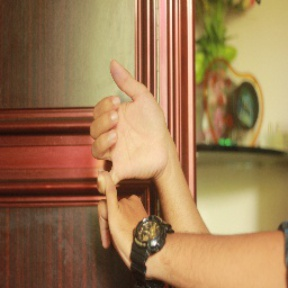S: (82, 59, 182, 266)
